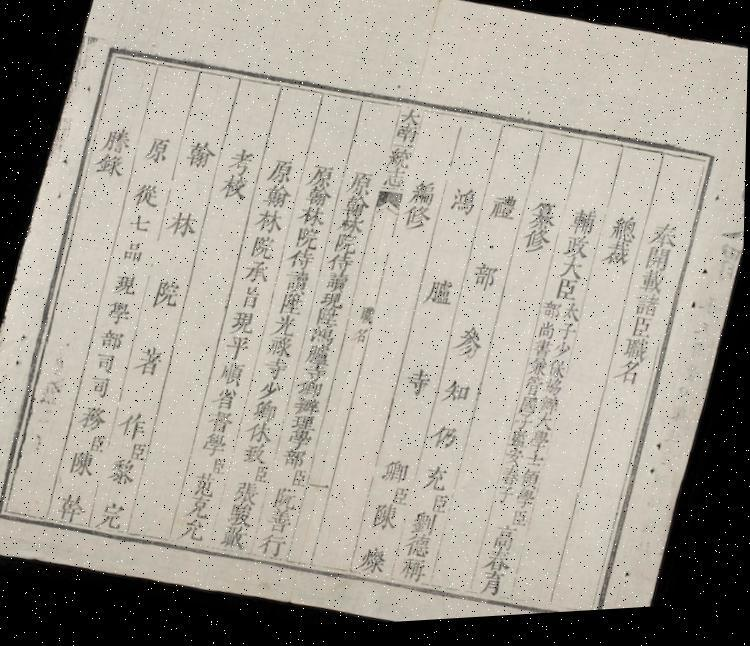c: (54, 489, 94, 526), (453, 328, 489, 368), (133, 343, 169, 382), (423, 278, 460, 315), (182, 137, 219, 174), (96, 497, 132, 535), (150, 276, 186, 314), (526, 202, 562, 240), (118, 408, 154, 444), (446, 188, 482, 224), (403, 368, 438, 405), (487, 196, 524, 231), (165, 208, 202, 243), (358, 546, 394, 581), (100, 123, 136, 158), (370, 503, 406, 538), (92, 150, 130, 183), (106, 456, 142, 490), (469, 264, 503, 300), (607, 218, 643, 252), (216, 172, 252, 206), (252, 207, 289, 240), (422, 465, 456, 500), (568, 210, 602, 245), (381, 459, 417, 492), (600, 245, 636, 278), (648, 226, 684, 259), (77, 401, 112, 434), (219, 524, 255, 556), (636, 274, 672, 306), (256, 532, 292, 564), (442, 380, 476, 413), (68, 448, 102, 481), (520, 231, 554, 264), (103, 297, 137, 330), (216, 360, 250, 393), (142, 134, 175, 168), (130, 180, 164, 213), (478, 572, 512, 605), (614, 364, 648, 397), (642, 250, 677, 282), (240, 259, 275, 291), (178, 516, 213, 548), (260, 183, 295, 215), (225, 147, 258, 180), (408, 181, 441, 214), (205, 408, 239, 440), (222, 334, 256, 366), (306, 164, 340, 196), (402, 207, 436, 239), (282, 270, 316, 302), (490, 527, 524, 559), (430, 426, 464, 458), (483, 551, 519, 581), (231, 479, 265, 510), (620, 341, 654, 372), (226, 502, 260, 533), (266, 158, 298, 190), (191, 471, 224, 502), (201, 431, 234, 462), (632, 298, 666, 328), (404, 536, 438, 566), (346, 172, 378, 203), (110, 270, 143, 300), (228, 310, 261, 340), (561, 239, 594, 269), (247, 235, 280, 265), (399, 558, 432, 588), (410, 512, 442, 542), (245, 420, 278, 449), (341, 196, 372, 226), (238, 284, 267, 316), (212, 387, 244, 416), (627, 320, 659, 349), (278, 292, 308, 322), (272, 314, 302, 344), (186, 494, 216, 524), (332, 233, 363, 262), (266, 336, 297, 365), (261, 357, 292, 386), (98, 326, 129, 355), (272, 487, 303, 516), (293, 227, 324, 256), (266, 509, 297, 538), (556, 262, 588, 290), (304, 345, 336, 373), (242, 442, 274, 470), (322, 272, 354, 300), (286, 248, 318, 276), (292, 397, 325, 424), (120, 238, 150, 267), (326, 253, 358, 280), (298, 206, 330, 233), (552, 283, 584, 310), (386, 149, 416, 177), (252, 399, 282, 427), (126, 211, 156, 238), (303, 187, 334, 213), (88, 374, 116, 402), (380, 171, 410, 197), (282, 448, 312, 474), (314, 308, 344, 334), (336, 218, 368, 242), (92, 350, 120, 377), (258, 380, 286, 407), (298, 379, 328, 404), (310, 326, 340, 351), (393, 126, 421, 152), (287, 430, 317, 454), (319, 292, 349, 316), (507, 511, 534, 536), (290, 415, 322, 436), (302, 366, 332, 388), (500, 469, 524, 494), (524, 379, 548, 404), (542, 304, 567, 328), (520, 472, 544, 496), (540, 400, 564, 424), (530, 435, 554, 459), (528, 360, 552, 384), (536, 324, 560, 348), (431, 496, 454, 521), (392, 488, 415, 513), (561, 306, 584, 331), (532, 343, 557, 366), (357, 306, 380, 331), (399, 109, 424, 132), (542, 382, 566, 405), (516, 492, 540, 515), (547, 363, 570, 387), (519, 400, 542, 424), (498, 488, 520, 512), (534, 417, 558, 439), (558, 326, 580, 350), (506, 451, 528, 474), (511, 434, 533, 456), (209, 457, 230, 479), (351, 329, 372, 351), (515, 418, 536, 440), (89, 433, 110, 455), (130, 442, 151, 464), (526, 456, 548, 476), (292, 470, 312, 492), (554, 346, 574, 368), (253, 466, 273, 487)
